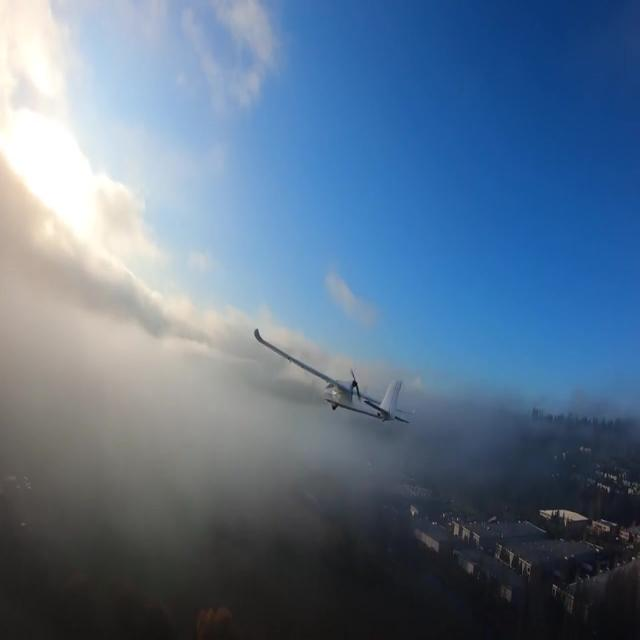iha: (254, 359, 416, 393)
